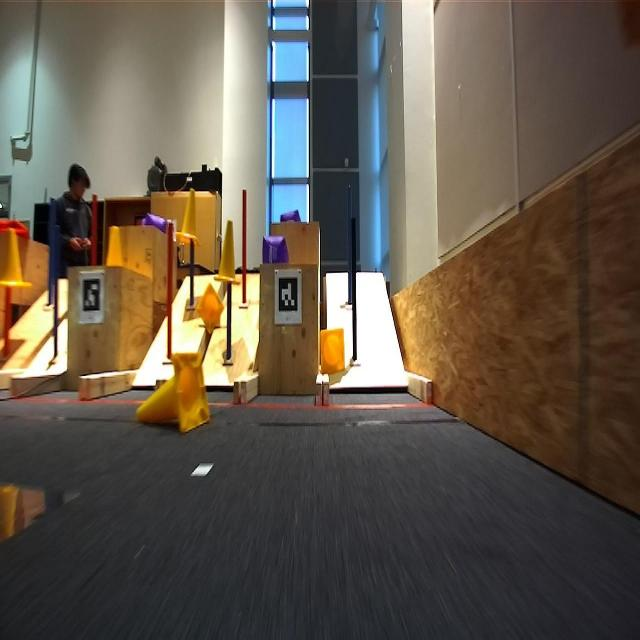frc_cone: (133, 348, 209, 432), (211, 214, 241, 291), (0, 227, 32, 289), (173, 184, 200, 248), (318, 322, 348, 378), (103, 220, 127, 268)
frc_cube: (263, 231, 291, 267), (140, 213, 167, 234), (282, 204, 302, 224)
